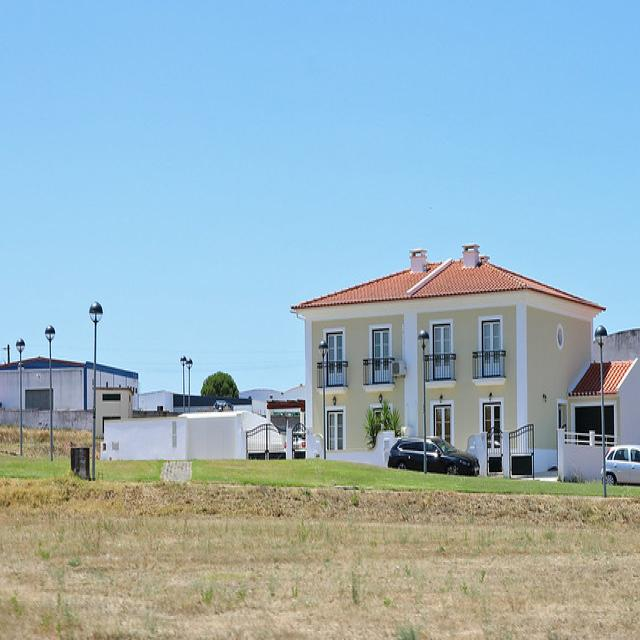building: (287, 241, 608, 474)
